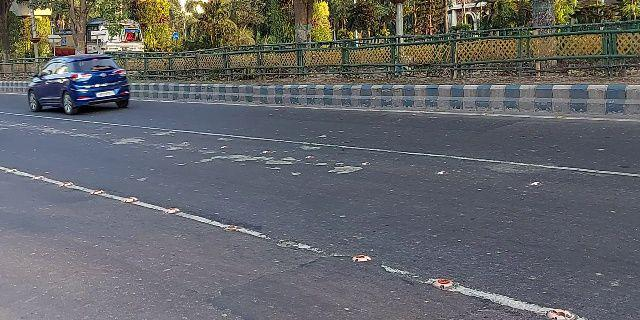Car: (24, 57, 130, 116)
